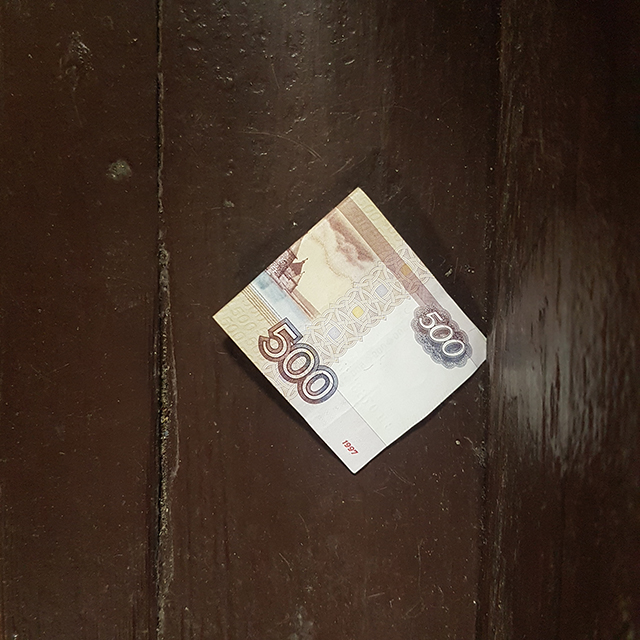banknotes: (211, 187, 488, 476)
